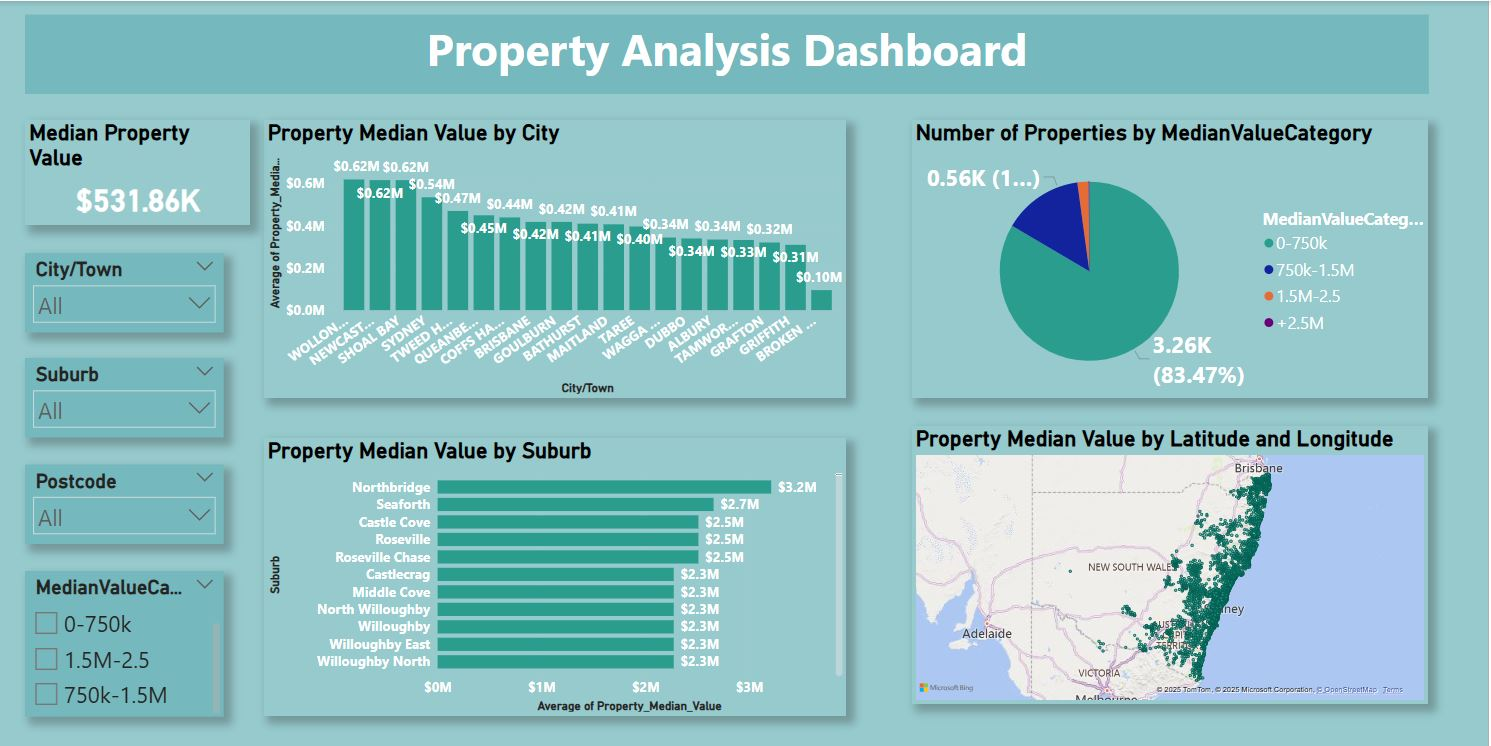

What the dashboard file says about the page in this screenshot:
{"tool":"powerbi","page":{"name":"Task 2","canvas":[1800,900],"ordinal":2},"visuals":[{"type":"clusteredColumnChart","title":"Number of Properties by MedianValueCategory","fields":{"Category":["NSW_PropertyMedainValue.MedianValueCategory"],"Y":["CountNonNull(NSW_PropertyMedainValue.Suburb)"]},"box":[360,264,624,528],"z":0},{"type":"shape","box":[32,16,272,864],"z":1000},{"type":"slicer","fields":{"Values":["NSW_PropertyMedainValue.City/Town"]},"box":[50.8,95.7,240,96],"z":2000},{"type":"slicer","fields":{"Values":["NSW_PropertyMedainValue.Suburb"]},"box":[50.8,239.7,240,96],"z":3000},{"type":"slicer","fields":{"Values":["NSW_PropertyMedainValue.Postcode"]},"box":[50.8,383.7,240,96],"z":4000},{"type":"map","title":"Property Median Value by Latitude and Longitude","fields":{"Y":["AUS_Post_suburb.lat"],"X":["AUS_Post_suburb.lon"],"Size":["Sum(NSW_PropertyMedainValue.Property_Median_Value)"]},"box":[1080,264,624,528],"z":5000},{"type":"slicer","fields":{"Values":["NSW_PropertyMedainValue.MedianValueCategory"]},"box":[48,552,240,240],"z":6000},{"type":"shape","box":[312,24,1440,144],"z":7000},{"type":"textbox","box":[816,48,552,96],"z":8000},{"type":"actionButton","box":[24,0,96,72],"z":9000}]}

Visuals, with their boxes in screenshot pixels (x1, y1, x2, y2), scaled from the page's 1800x900 canvas onto the 1491x746 screenshot:
"Number of Properties by MedianValueCategory" clusteredColumnChart: Rect(298, 219, 815, 656)
shape: Rect(27, 13, 252, 729)
slicer - NSW_PropertyMedainValue.City/Town: Rect(42, 79, 241, 159)
slicer - NSW_PropertyMedainValue.Suburb: Rect(42, 199, 241, 278)
slicer - NSW_PropertyMedainValue.Postcode: Rect(42, 318, 241, 398)
"Property Median Value by Latitude and Longitude" map: Rect(895, 219, 1411, 656)
slicer - NSW_PropertyMedainValue.MedianValueCategory: Rect(40, 458, 239, 656)
shape: Rect(258, 20, 1451, 139)
textbox: Rect(676, 40, 1133, 119)
actionButton: Rect(20, 0, 99, 60)
